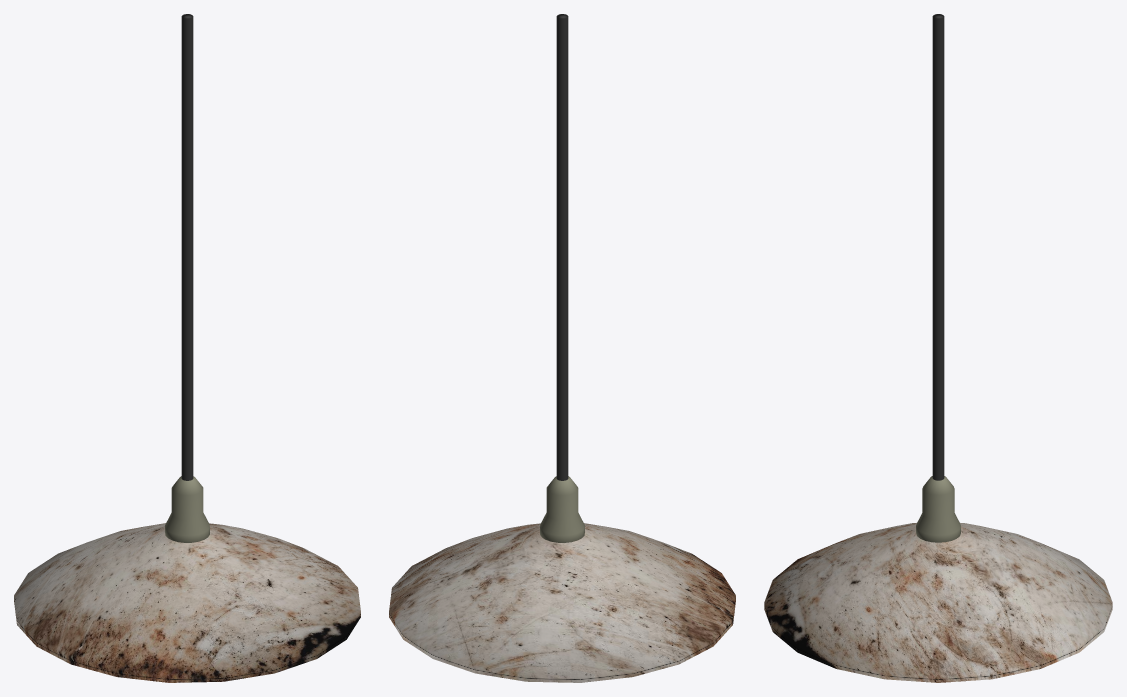
Rendered from blub.fbx.
The picture shows the model from 3 angles, left to right: view 1: azimuth 30°, elevation 25°; view 2: azimuth 150°, elevation 25°; view 3: azimuth 270°, elevation 25°; orthographic projection.
Visible parts, largest first — view 1: tat, wire, plastic; view 2: tat, wire, plastic; view 3: tat, wire, plastic.
Part boxes in pixels (x1,y1,x2,y2): tat: (14,523,360,682); wire: (181,14,193,480); plastic: (165,476,209,542); tat: (389,523,735,682); wire: (556,14,568,480); plastic: (540,476,584,542); tat: (764,523,1112,682); wire: (932,14,944,480); plastic: (916,476,960,542).
Bounding box in the file's own units: 1.37 × 2.64 × 1.37.
4 materials, 1 textured.
